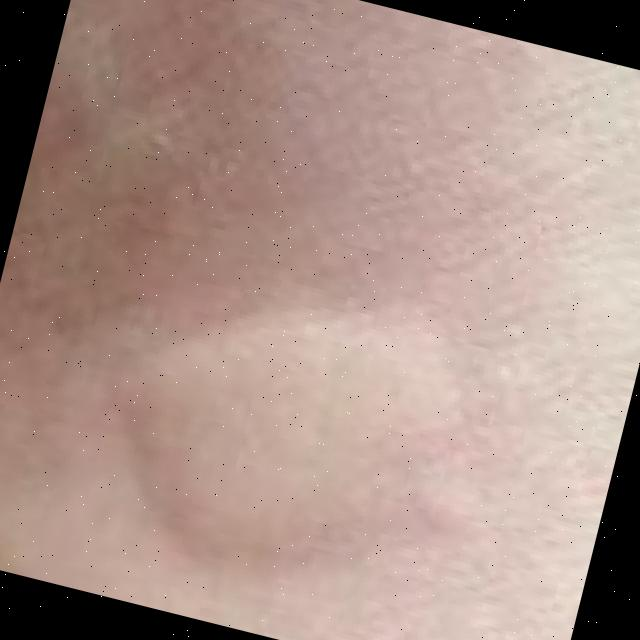sinek: (2, 146, 585, 640)
